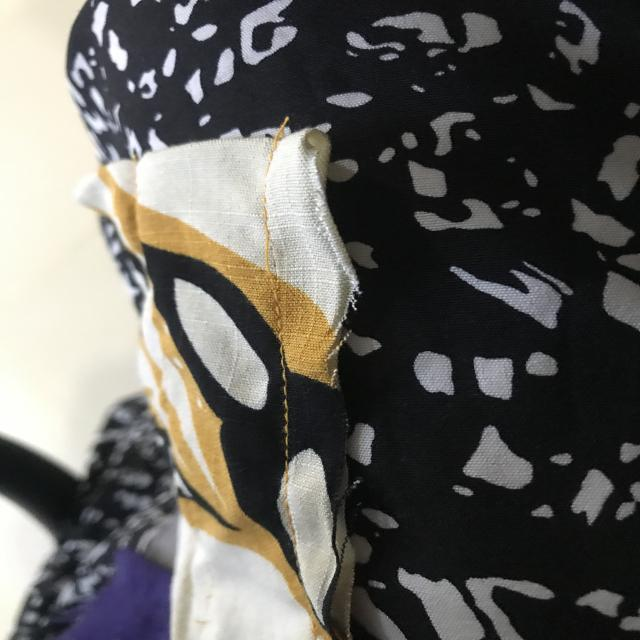skip: (240, 224, 300, 311)
